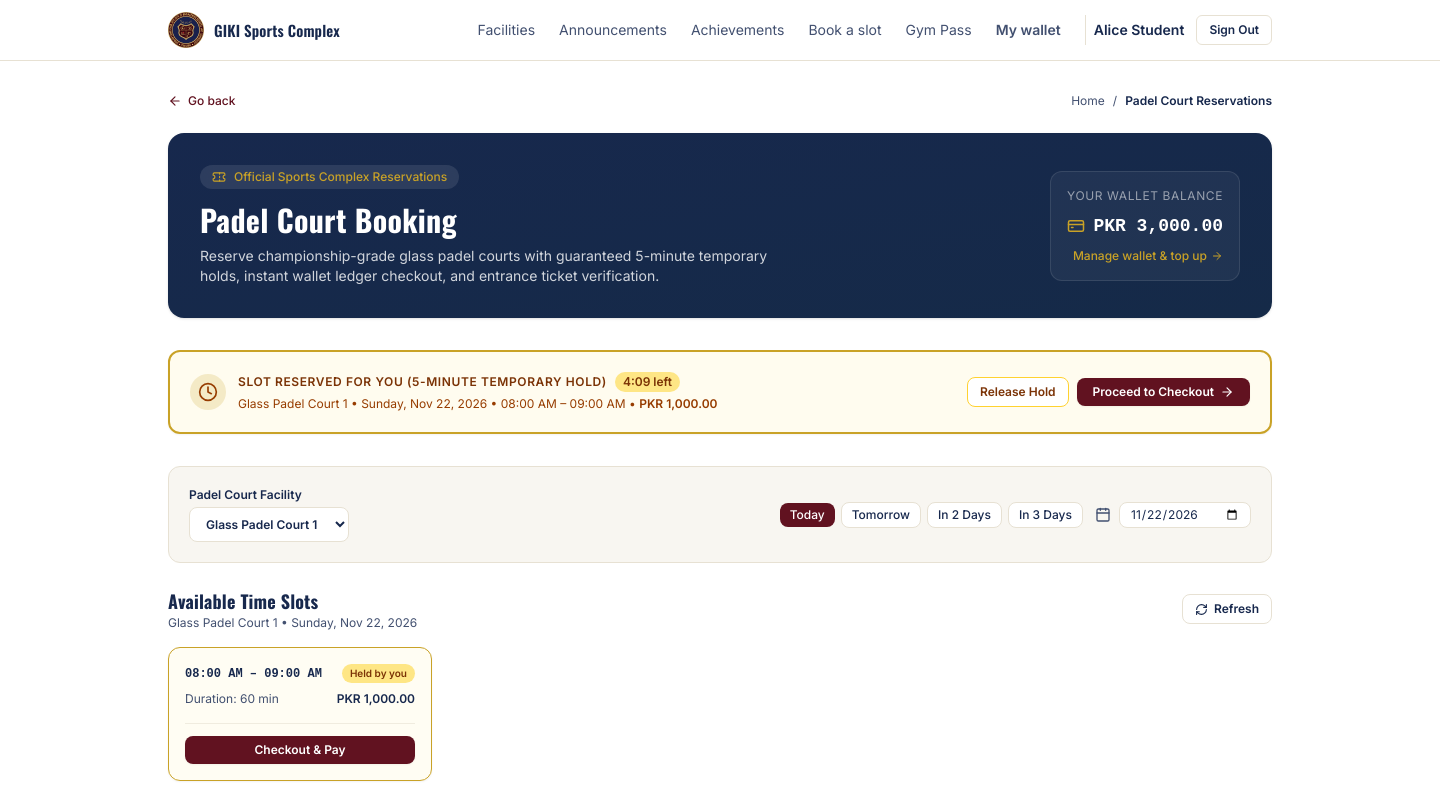
Test case: Padel Court Booking Client (Step 12I) › executes atomic checkout with sufficient funds and displays 4-digit digital check-in ticket
Click the button "Proceed to Checkout" at [1163, 392], box [1077,378,1250,406]
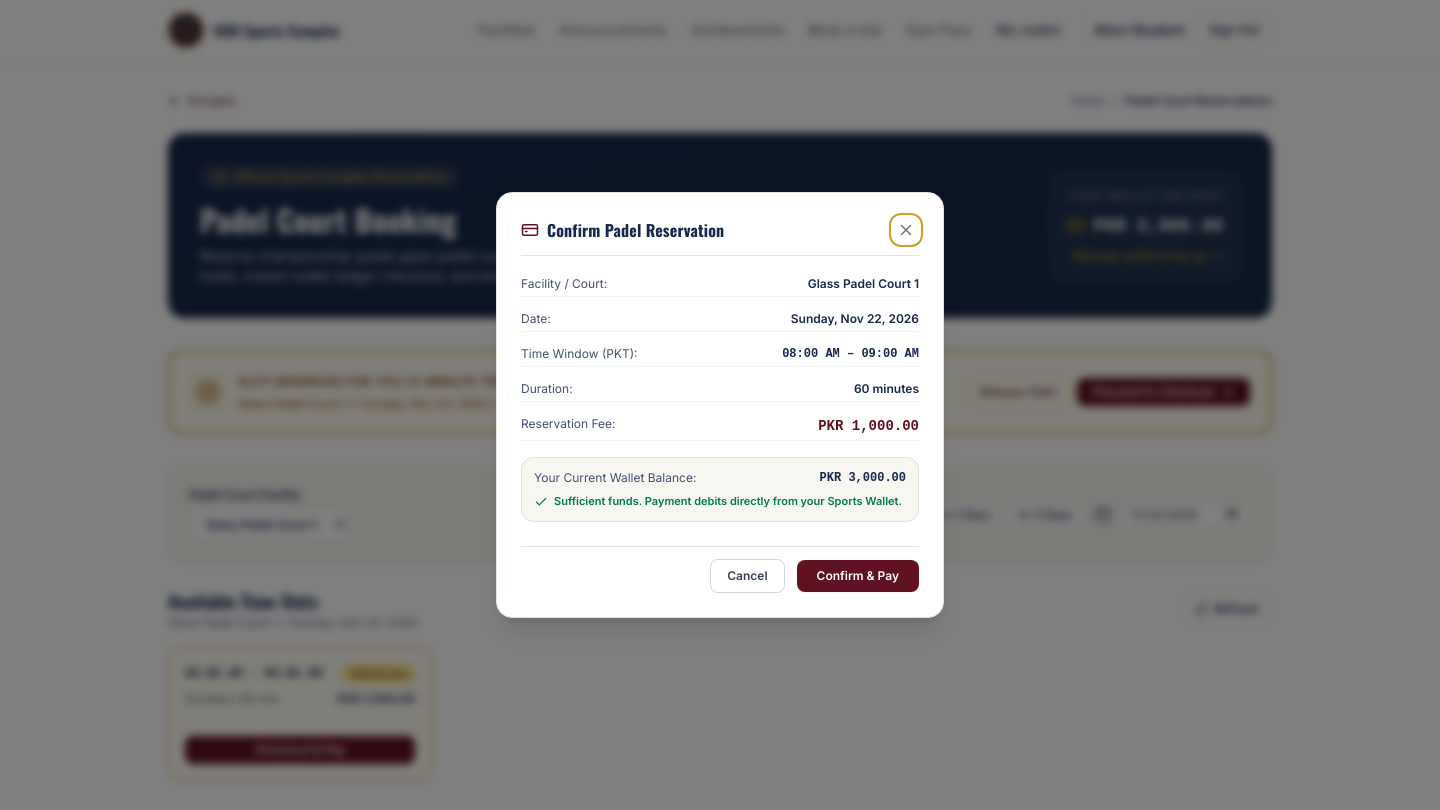
Now the text "Sufficient funds. Payment debits directly from your Sports Wallet." is shown, box [534,494,906,509]
Now the button "Confirm & Pay" is enabled
Click the button "Confirm & Pay" at [858, 576], box [796,560,919,592]
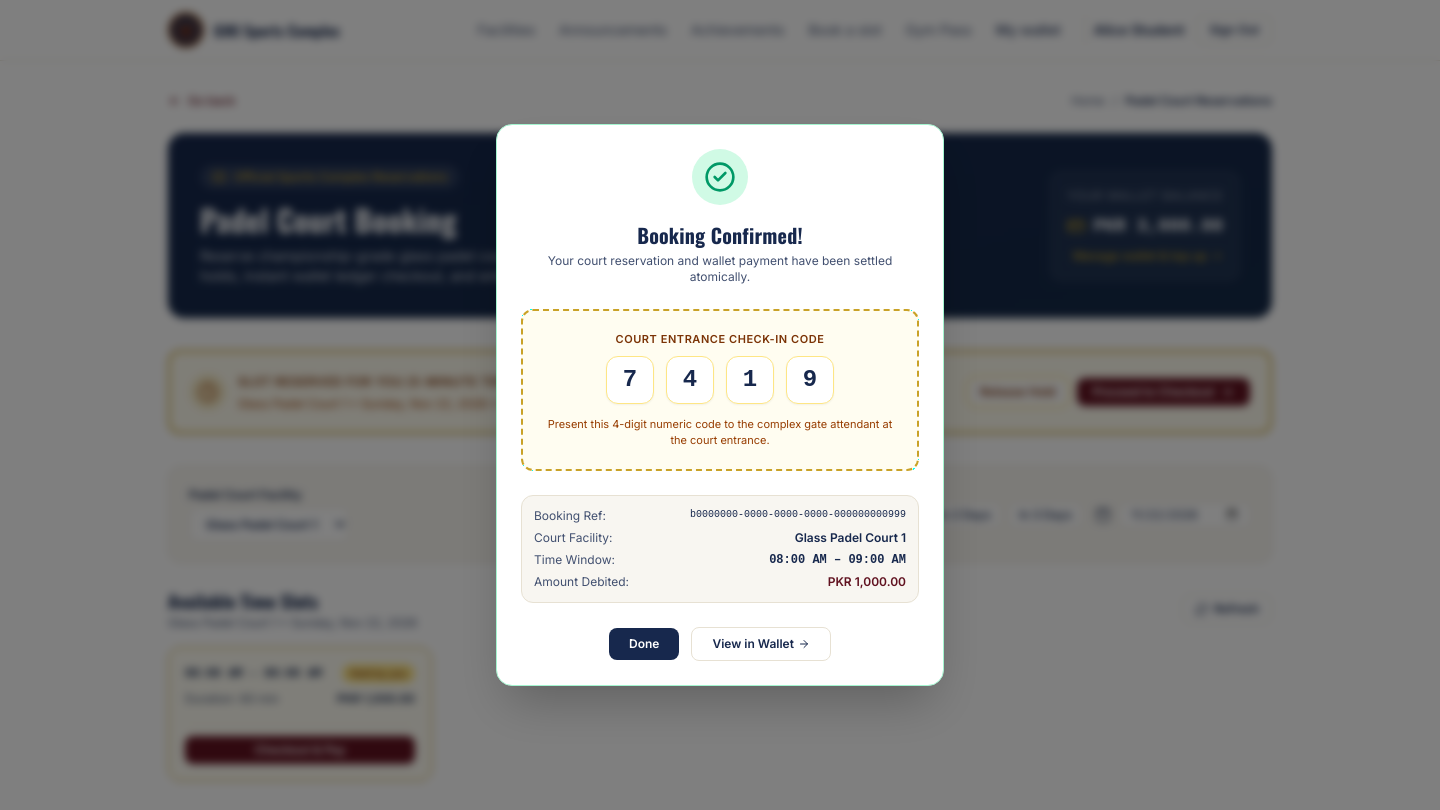
Now the heading "Booking Confirmed!" is shown, box [637,220,803,250]
Now the text "Court Entrance Check-In Code" is shown, box [616,332,824,346]
Now the text "7" is shown, box [606,356,654,404]
